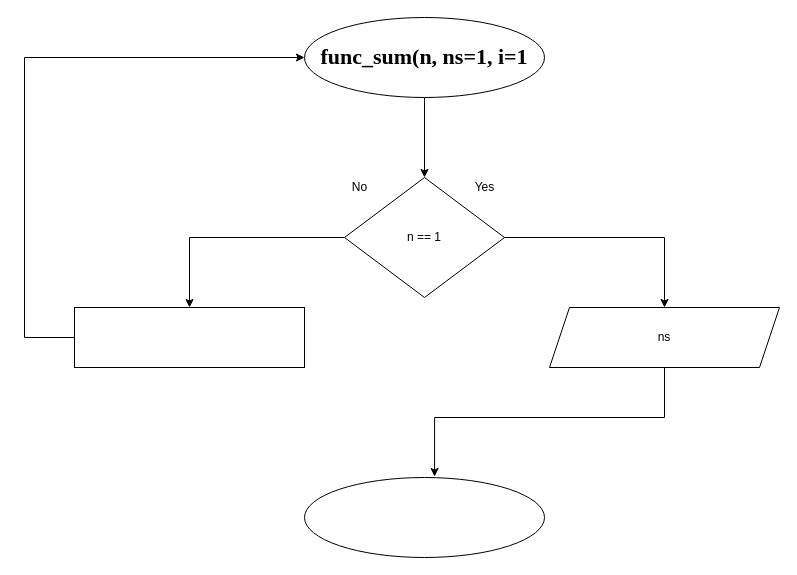
Some shapes in this 797 by 575 pixel diagram are drawn without their labels. Each missing label, with the centre of its shape:
n - 1, ns + i / -2, i / -2: (x=189, y=337)
Конец: (x=424, y=517)
